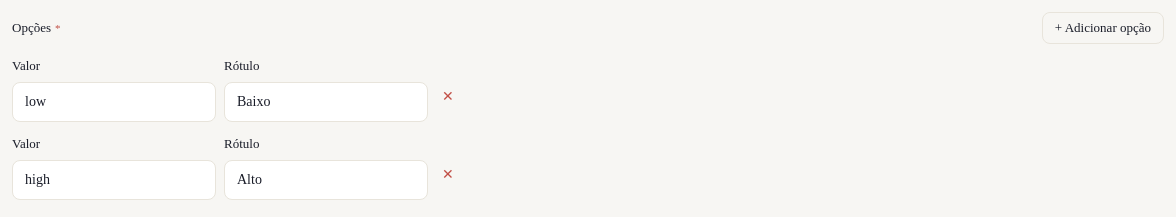
Scenario: CanonicalFieldOptionsEditor (integration) › removes an option row when remove button is clicked
This screenshot has width=1176, height=217.
expect the element with test id "canonical-field-option-row-1" is shown: met, box left=12, top=136, right=460, bottom=200
Step 1. Click the button with test id "canonical-field-option-remove-0" → {"x": 448, "y": 97}, box left=436, top=80, right=460, bottom=114
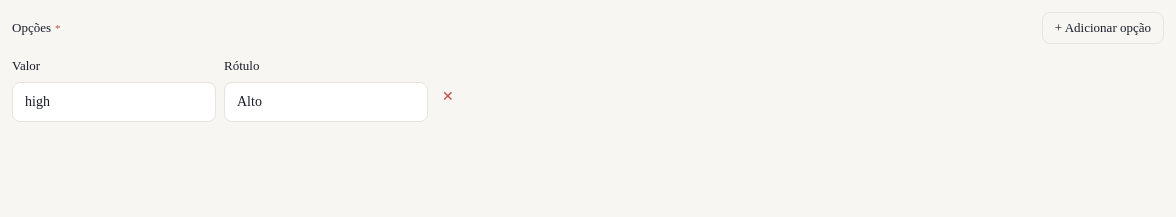
expect the element with test id "canonical-field-option-row-0" is shown: met, box left=12, top=58, right=460, bottom=122
